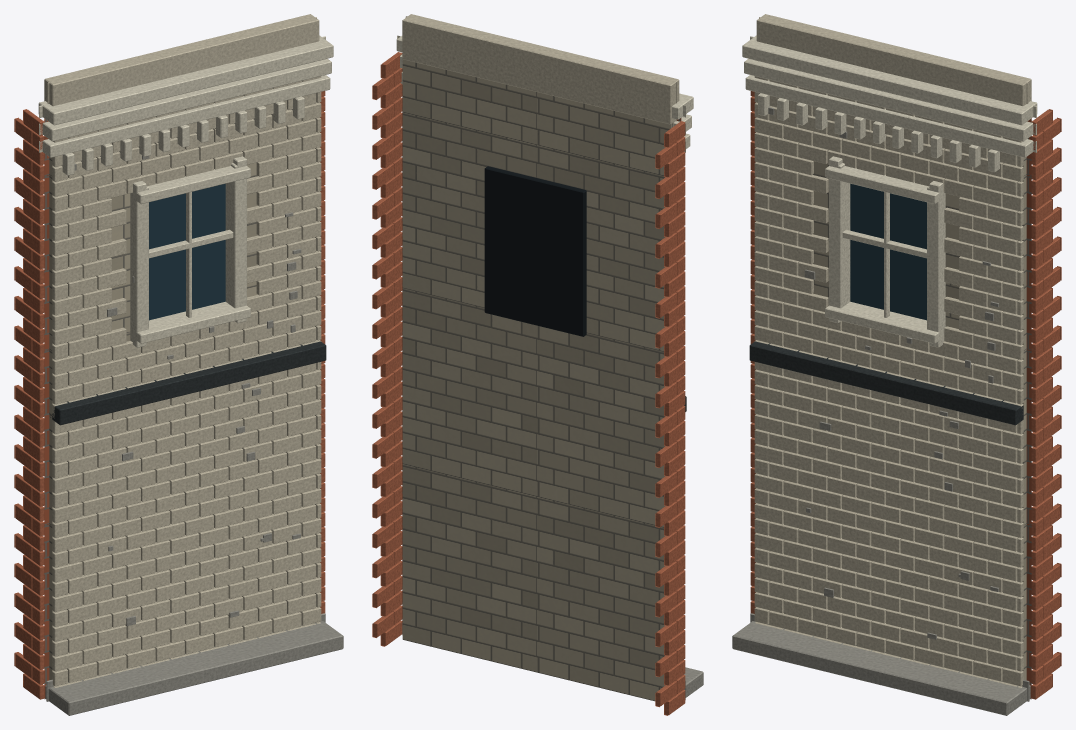
Rendered from WHSE19_lod0.glb.
The picture shows the model from 3 angles, left to right: view 1: azimuth 30°, elevation 25°; view 2: azimuth 150°, elevation 25°; view 3: azimuth 330°, elevation 25°; orthographic projection.
Visible parts, largest first — view 1: WHSE19_FRONT_LOD0; view 2: WHSE19_FRONT_LOD0; view 3: WHSE19_FRONT_LOD0.
Boxes of the visible parts, <box> form: WHSE19_FRONT_LOD0: <box>14,14,343,715</box>; WHSE19_FRONT_LOD0: <box>372,14,703,715</box>; WHSE19_FRONT_LOD0: <box>732,14,1061,715</box>.
Size of the model in its own units: 3.44 by 7.05 by 1.02.
14 materials, 12 textured.
